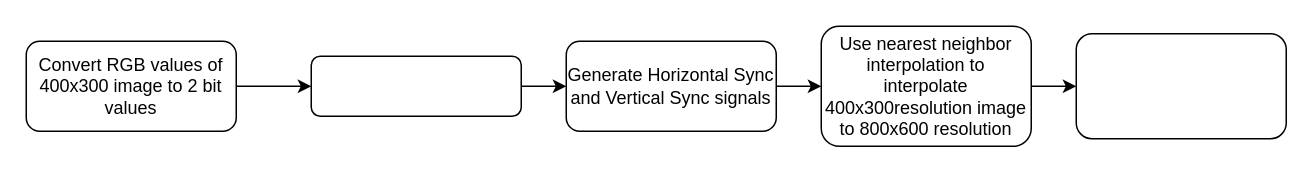
This 1313x173 diagram has some shape labels left out. Here are the shapes that lost their labels. From the top down, the box of each, then its label:
(310, 55, 521, 116): Write 2 bit values to COE(coefficient files)
(1075, 32, 1286, 139): Output RGB values and H_sync and V_sync signals to VGA
